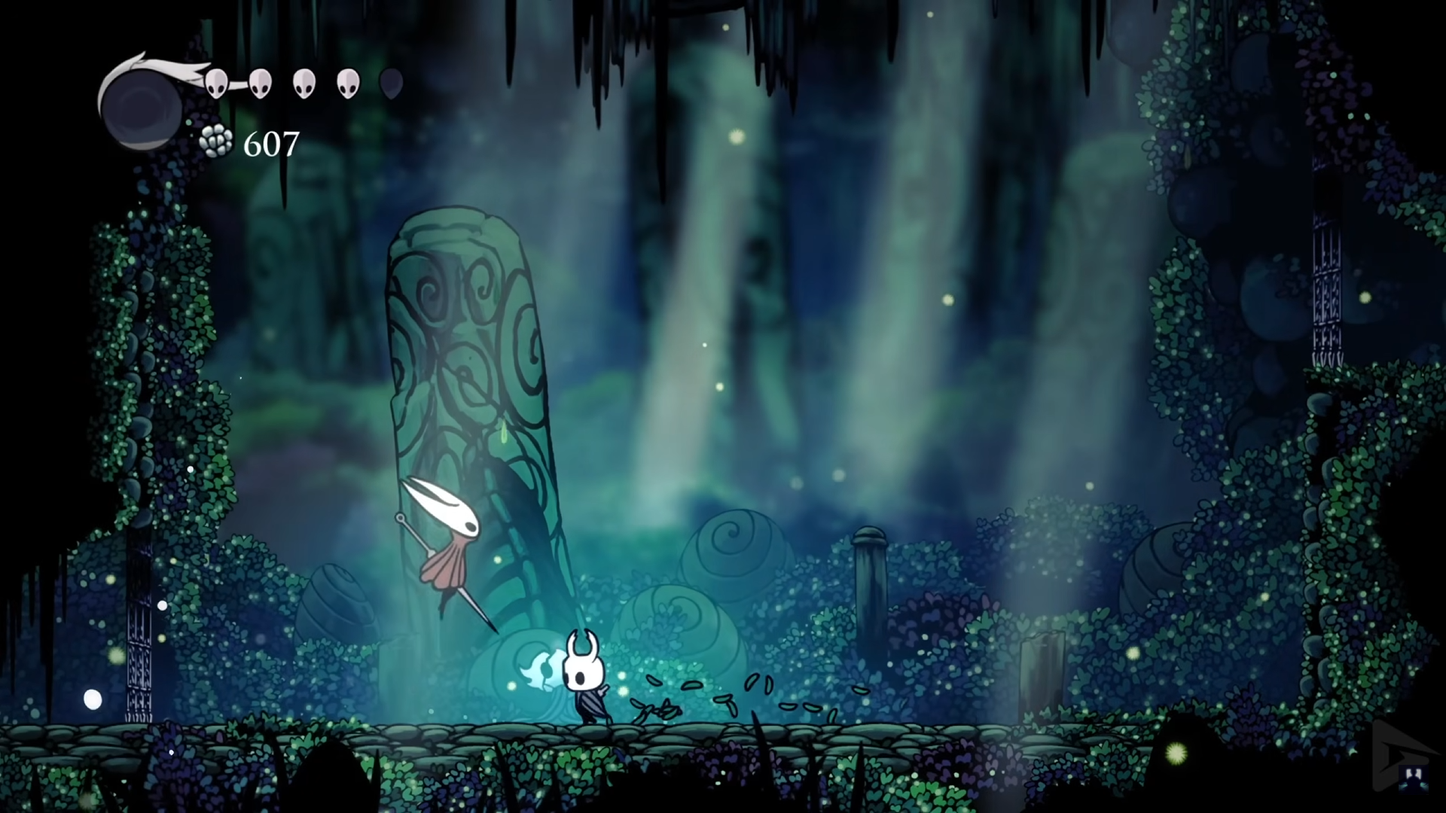HK: (553, 626, 615, 727)
